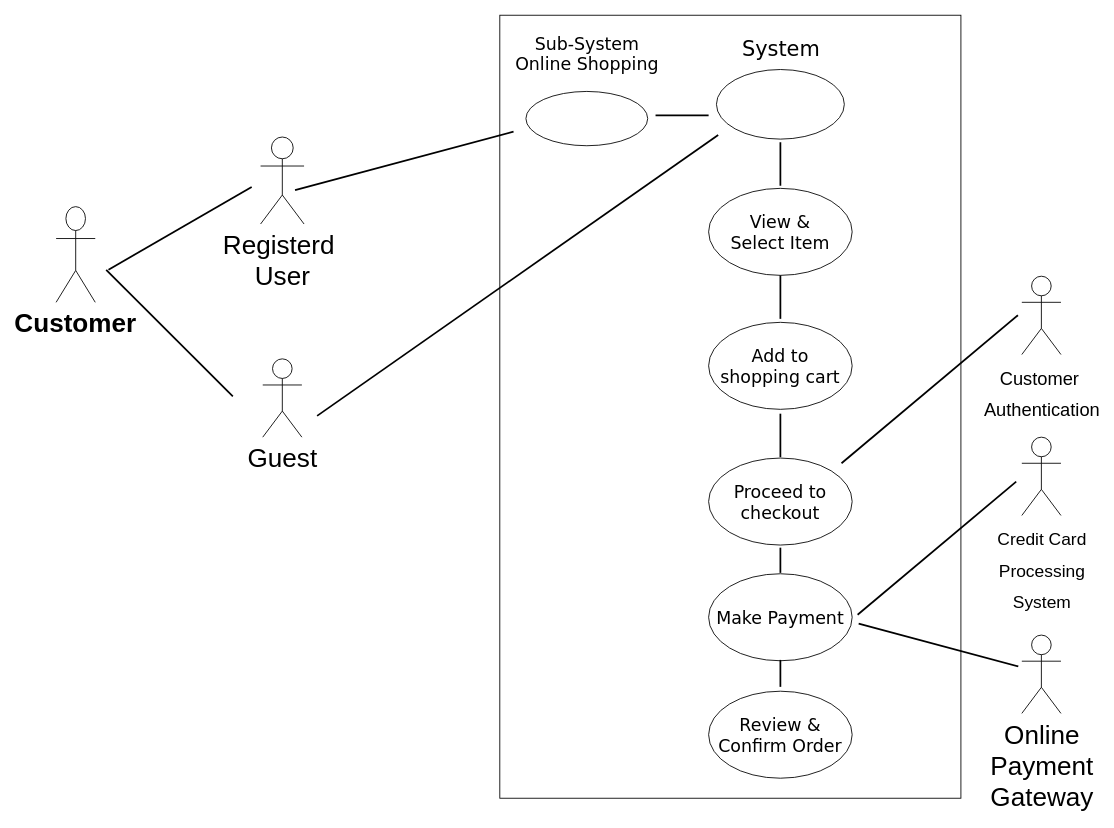
This 1114x828 diagram has some shape labels left out. Here are the shapes that lost their labels. From the top down, the box of each, then its label:
(525, 91, 648, 146): login
(716, 69, 844, 139): Browes For Desired item
